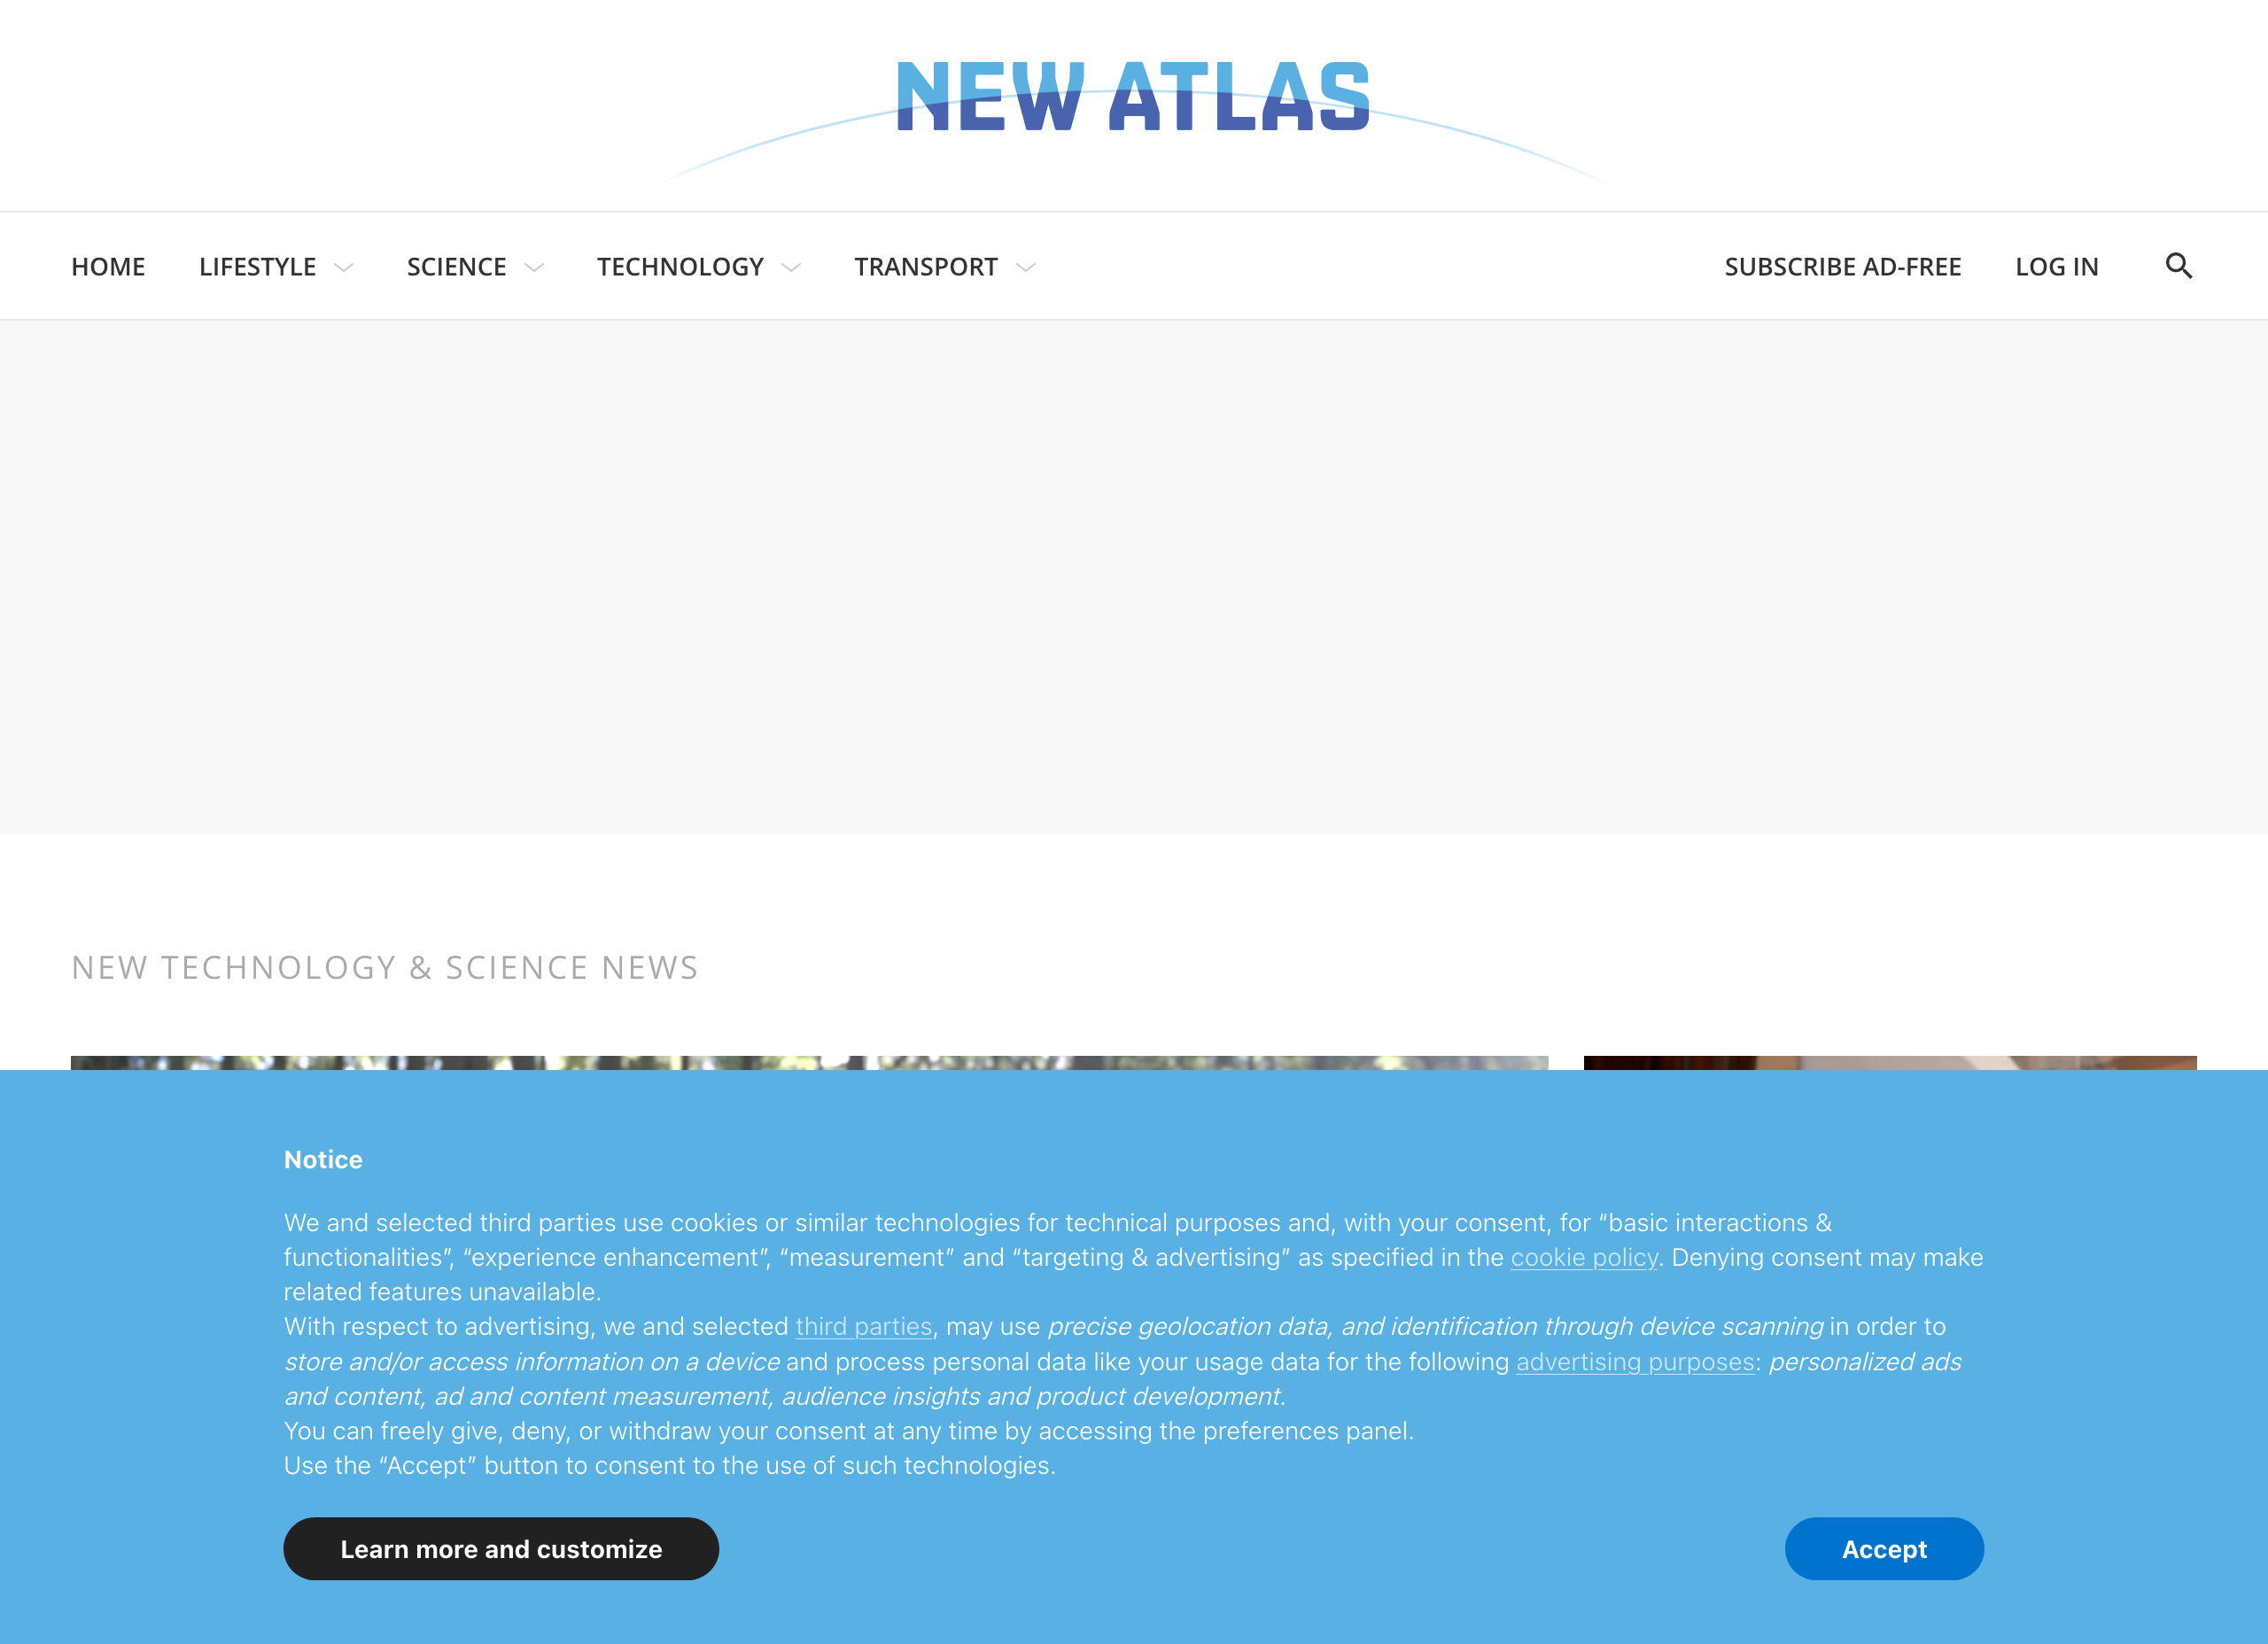Login: (1997, 236, 2113, 290)
